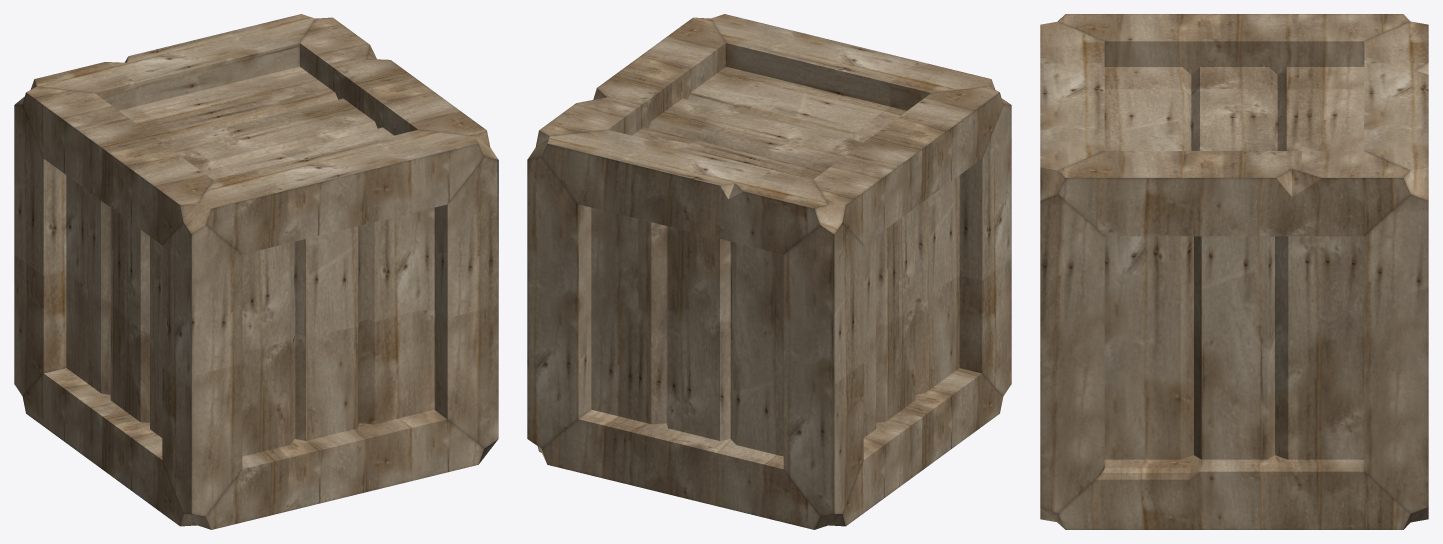
File: Crate_Model.fbx
3 renders of one model, left to right at view 1: azimuth 30°, elevation 25°; view 2: azimuth 150°, elevation 25°; view 3: azimuth 270°, elevation 25°, orthographic. The views are drawn at different scales.
Visible parts, largest first — view 1: Crate; view 2: Crate; view 3: Crate.
Part boxes in pixels (x1,y1,x2,y2): Crate: (14,14,498,529); Crate: (527,14,1011,529); Crate: (1040,14,1428,529).
Size of the model in its own units: 120 by 120 by 120.
1 material, 1 textured.
